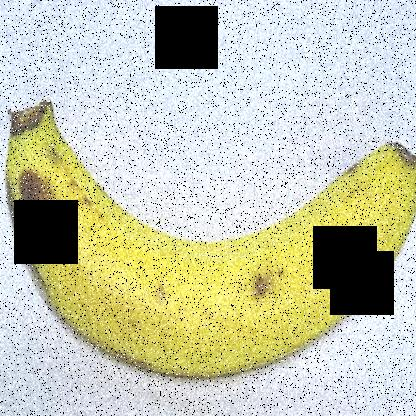freshripe: (1, 76, 415, 394)
